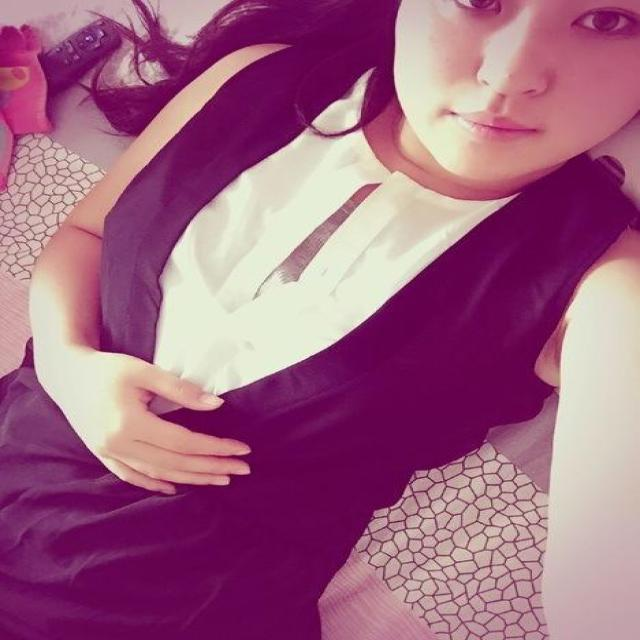vest dress: (5, 47, 635, 638)
